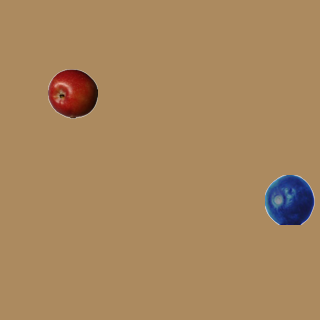Apple Braeburn: (47, 68, 97, 118)
Huckleberry: (264, 174, 314, 224)
